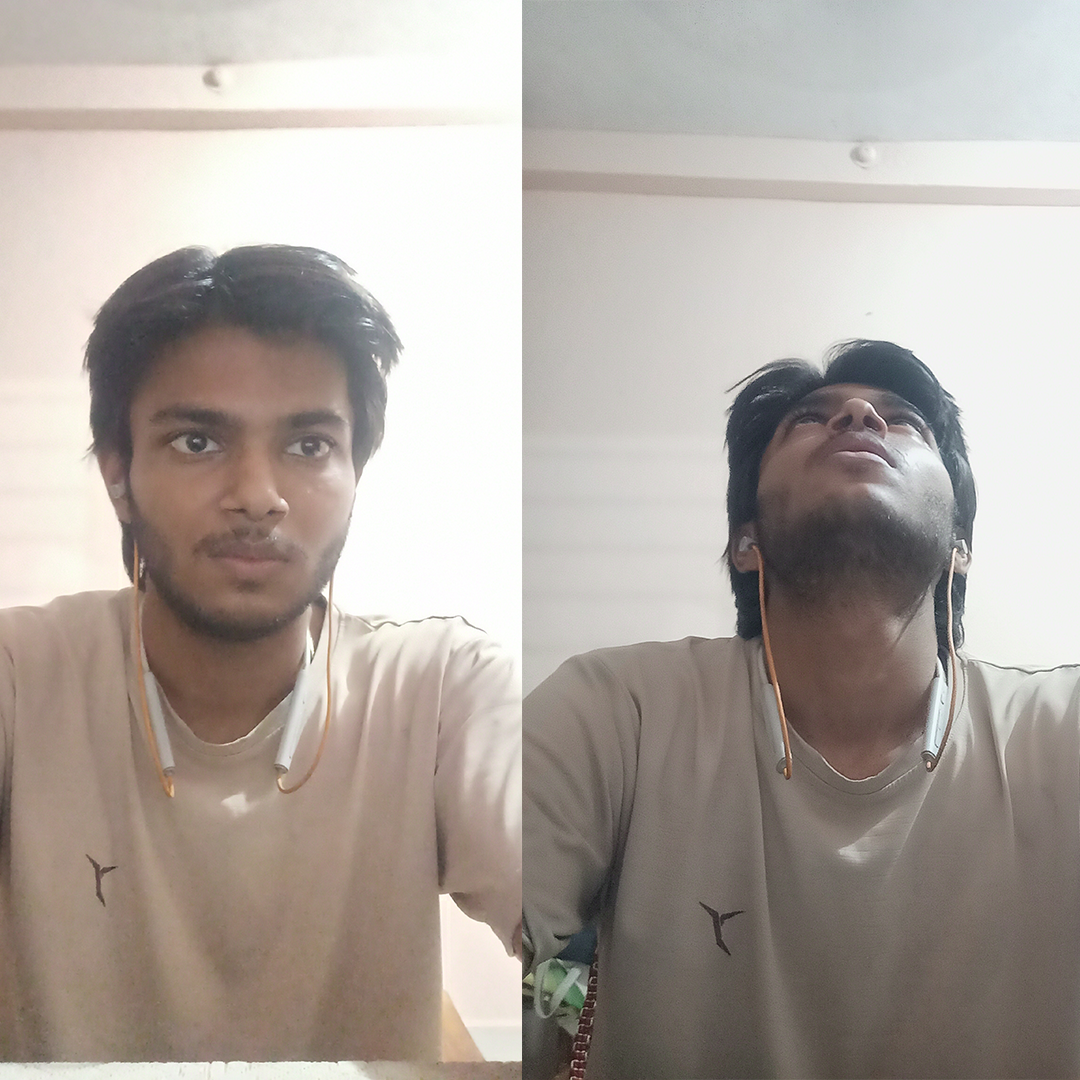Focused: (86, 260, 407, 675)
distracted: (696, 304, 995, 711)
